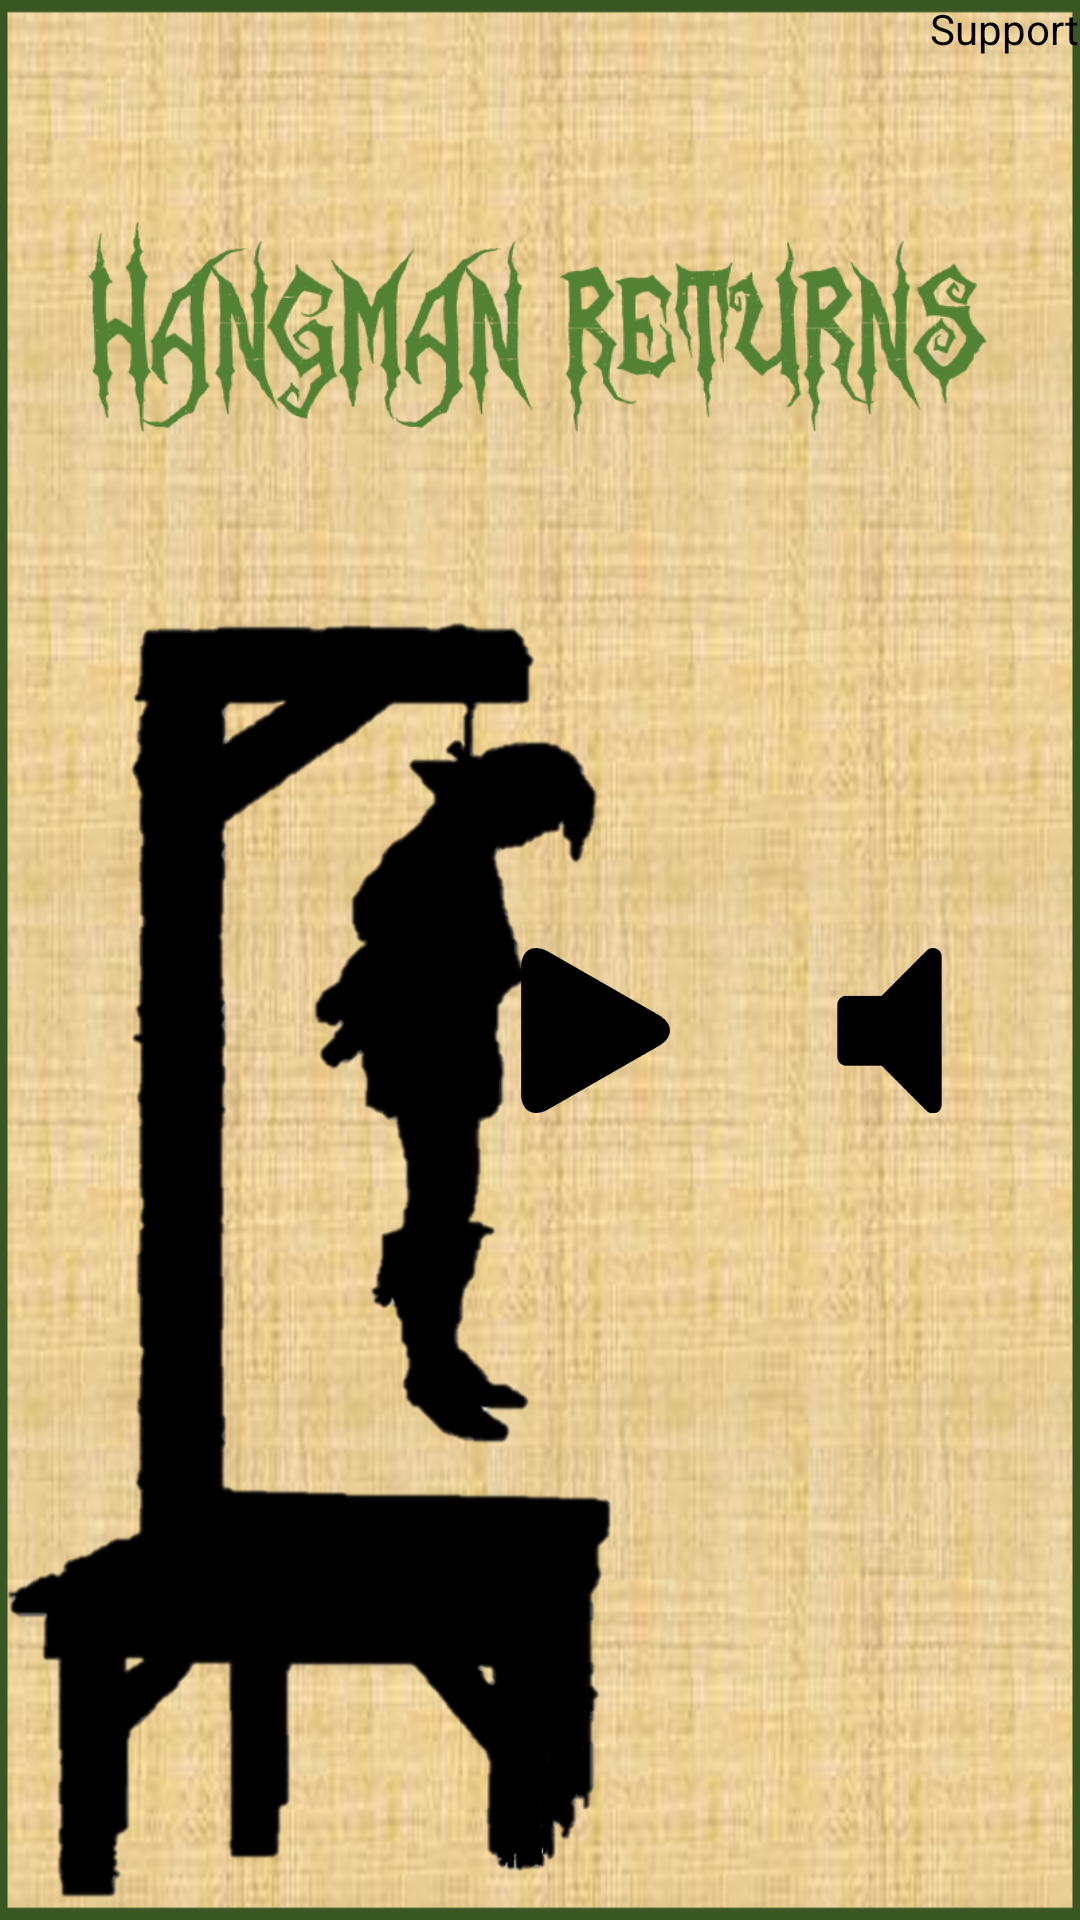

Named icons in this screenshot (1080x1920) and their centers, (x=x, y=y):
playicon: (x=593, y=1030)
speakeron: (x=889, y=1030)
